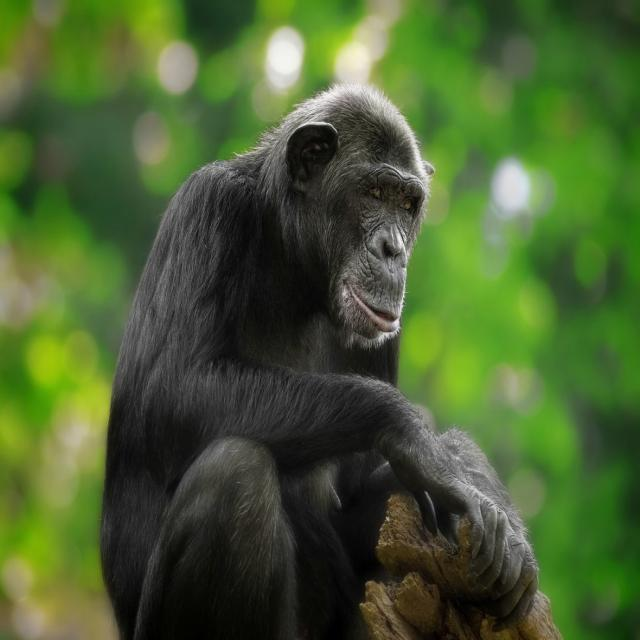chimpanzee: (101, 84, 539, 639)
